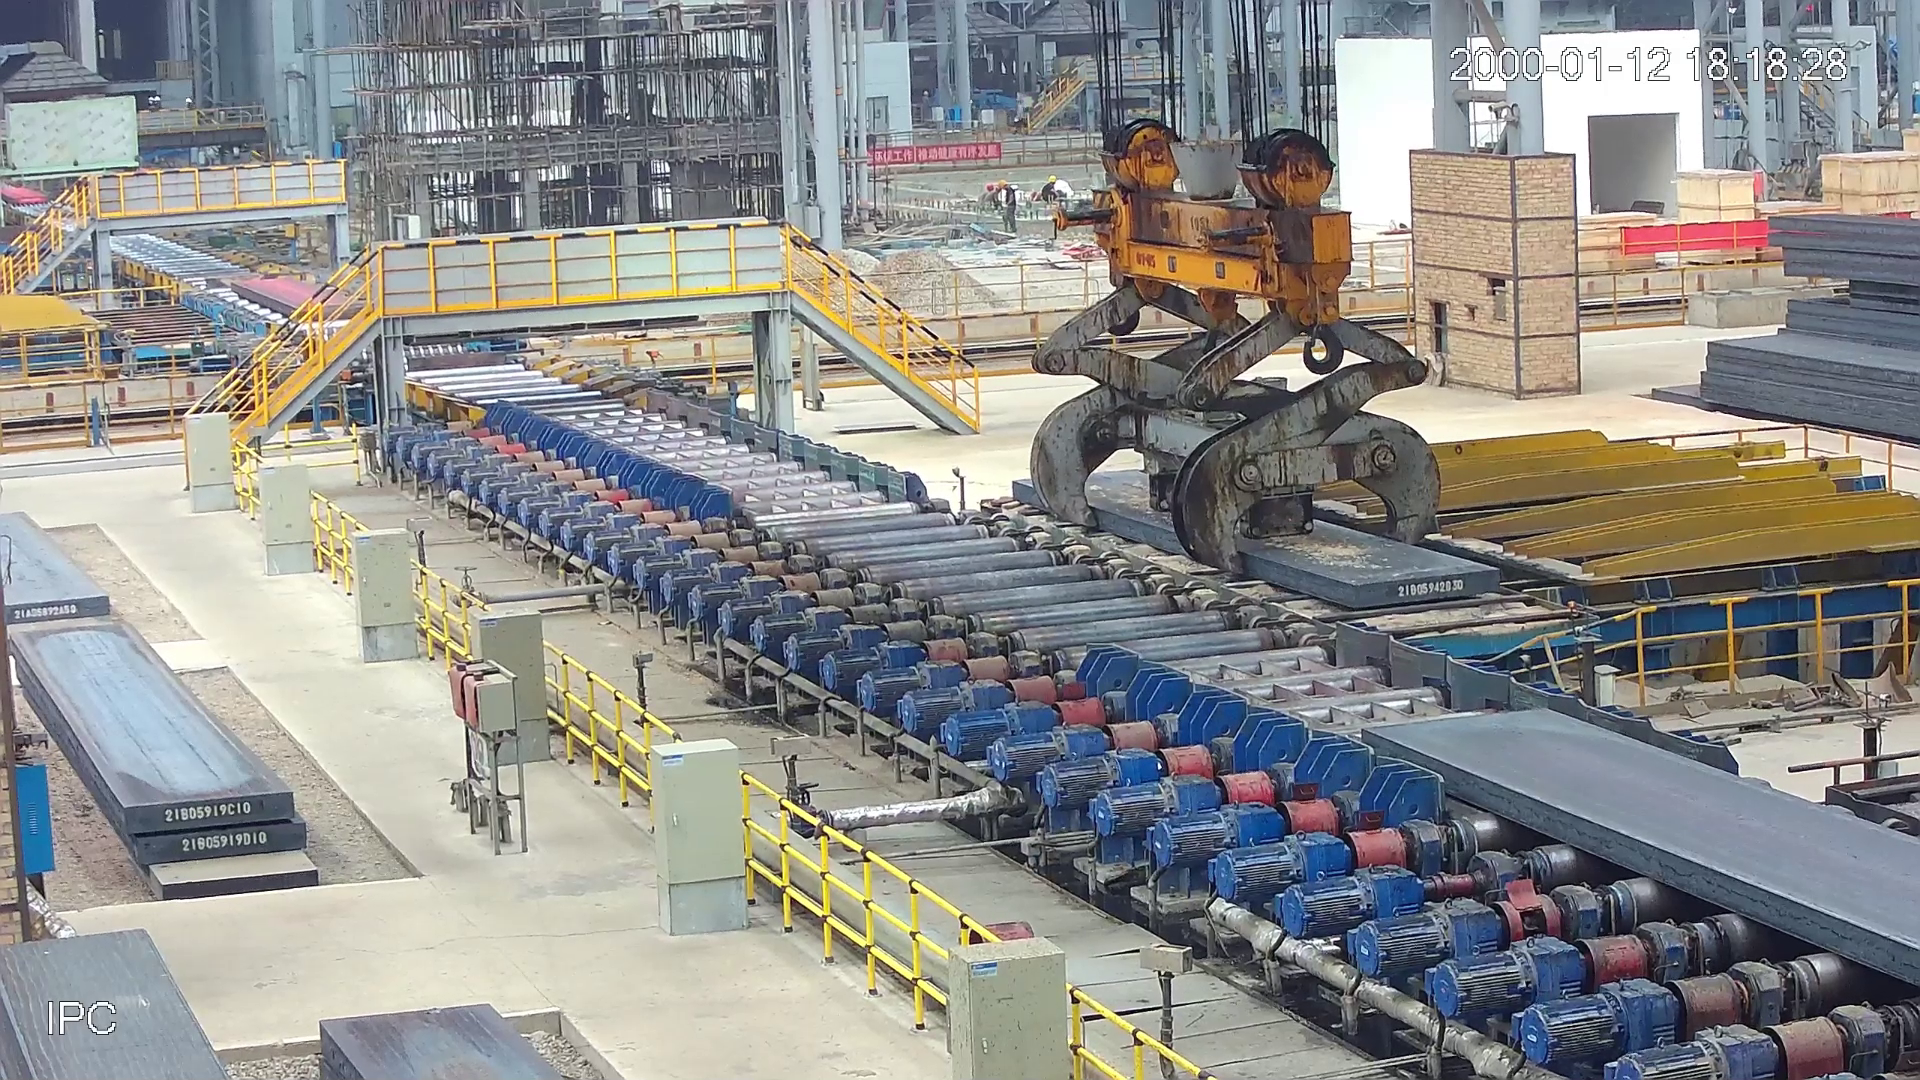craneandslab: (1005, 102, 1510, 611)
slab: (1346, 692, 1920, 993), (229, 273, 373, 320)
